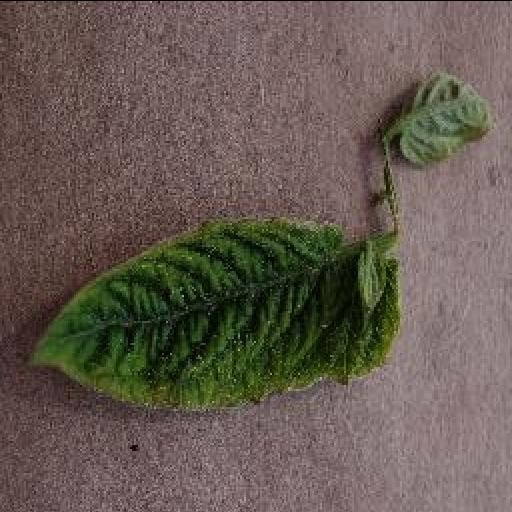disease_tomato: (30, 214, 400, 406)
